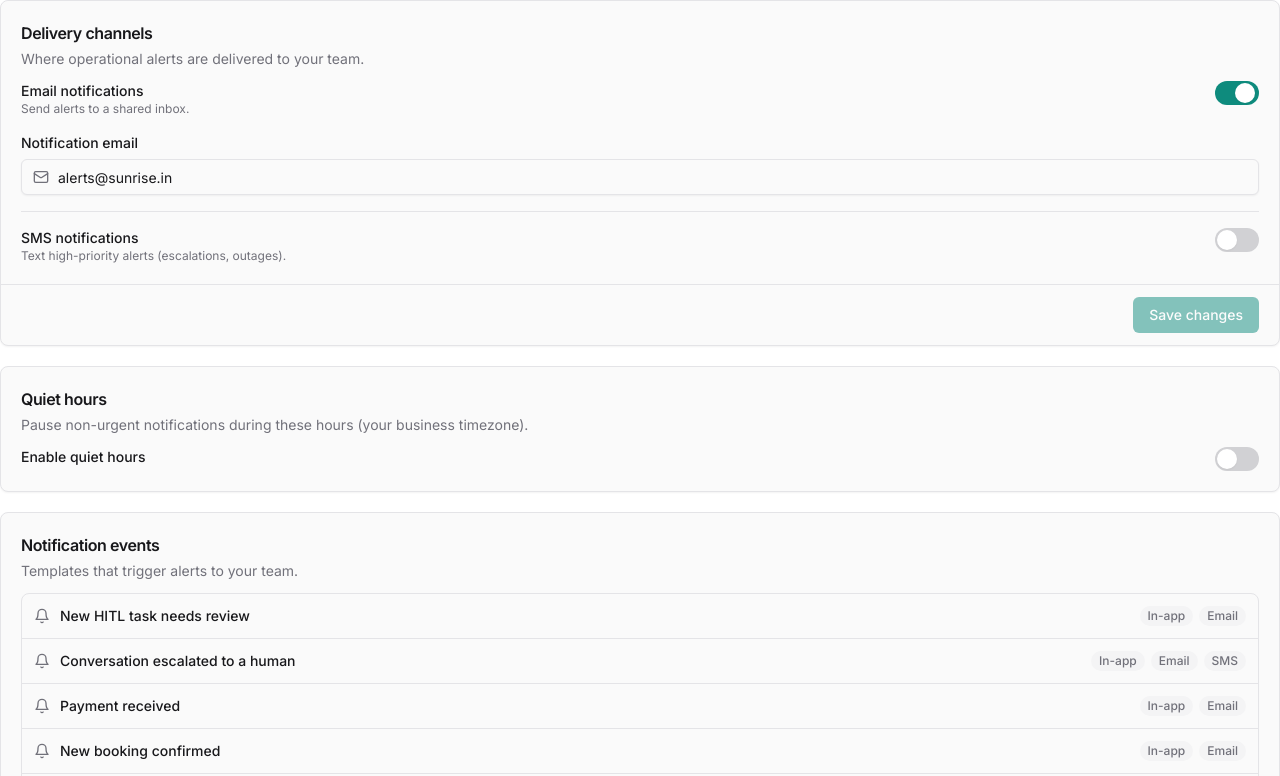
Test: NotificationsPage › reveals the quiet-hours range with the 22:00–08:00 defaults
Expected: the field showing "22:00" is not shown
Click the switch named "Enable quiet hours". click: [1237, 459]
box: top-left (1215, 447), bottom-right (1259, 471)
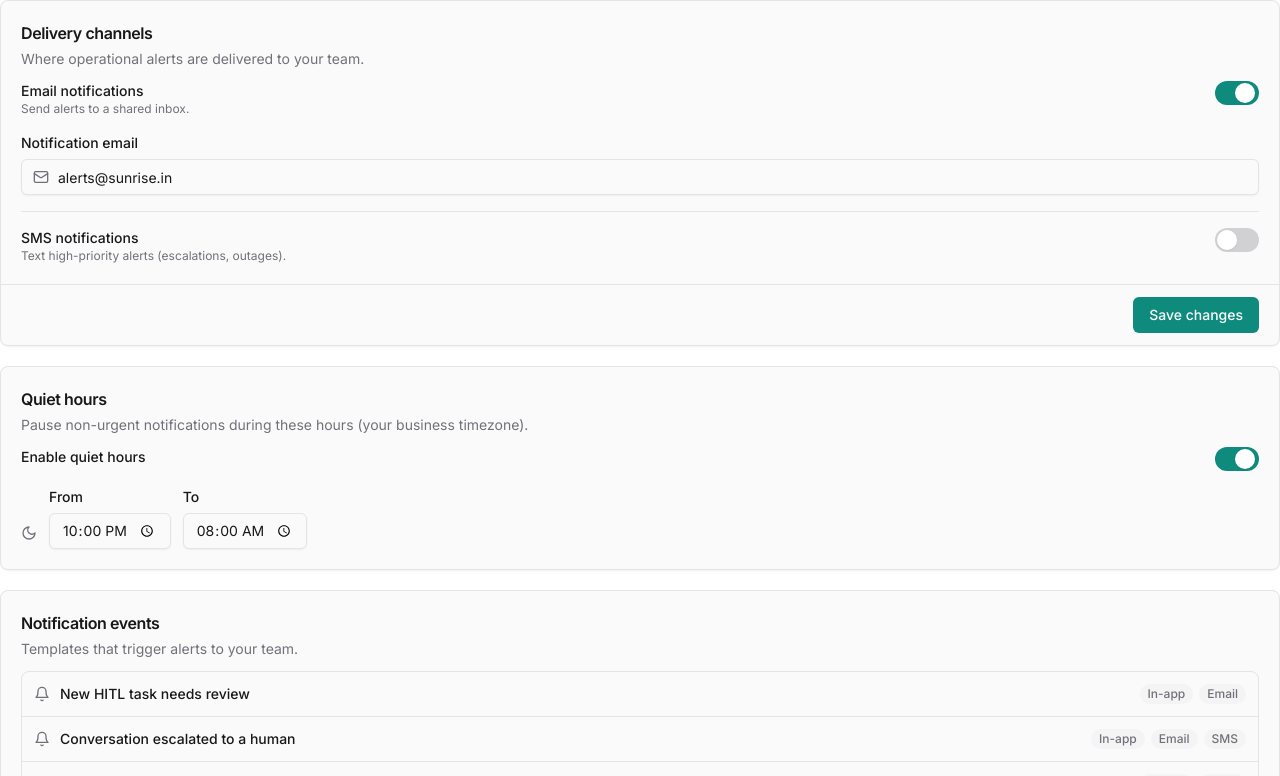
Expected: the time field showing "22:00" is shown, top-left (49, 513), bottom-right (171, 549)
Expected: the time field showing "08:00" is shown, top-left (183, 513), bottom-right (307, 549)
